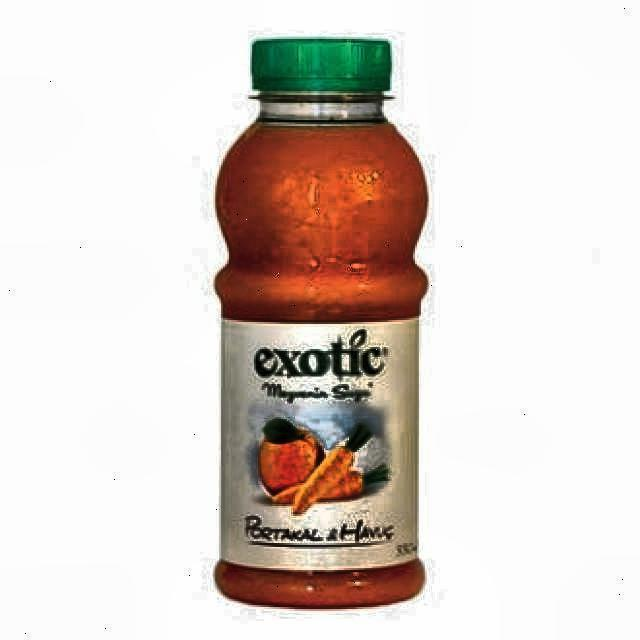plastic: (213, 37, 429, 611)
